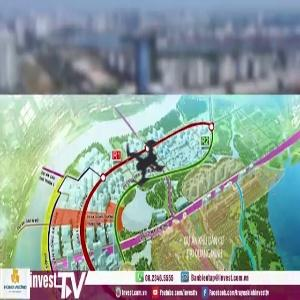drone: (75, 95, 211, 231)
